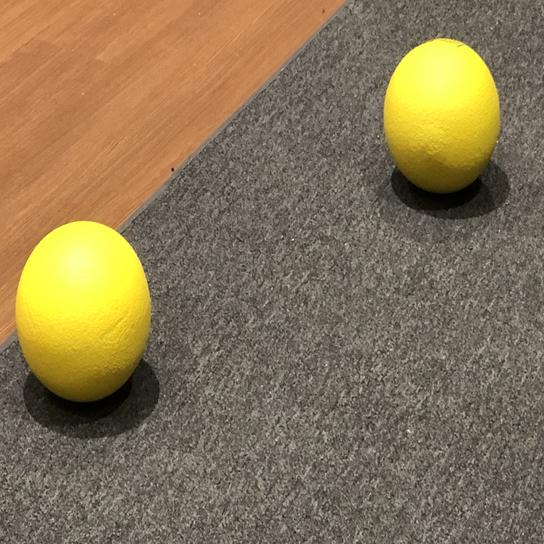ball: (12, 218, 156, 407), (379, 37, 503, 197)
